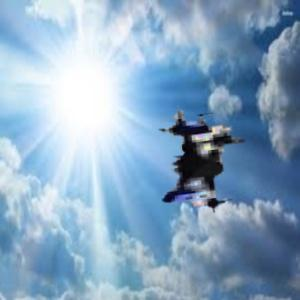drone: (90, 89, 254, 253)
